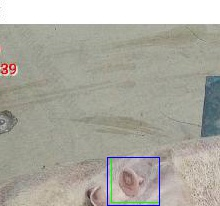text: (111, 157, 159, 202)
